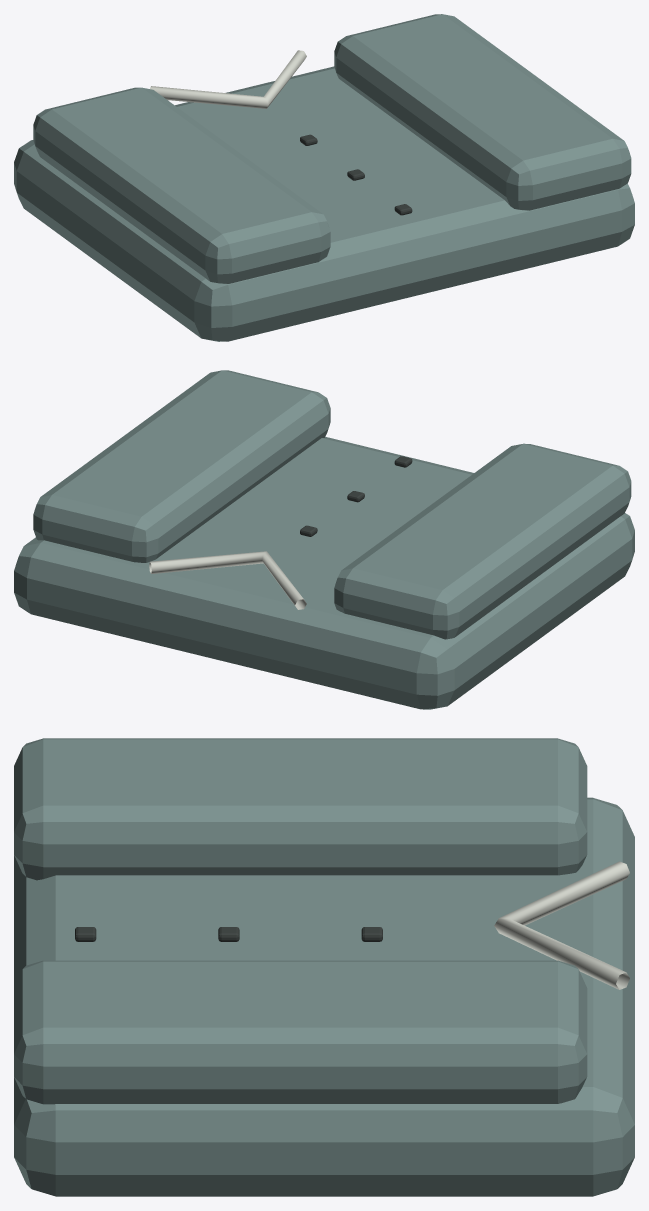
Rendered from folded_cardigan.glb.
The picture shows the model from 3 angles, top to bottom: view 1: azimuth 30°, elevation 25°; view 2: azimuth 150°, elevation 25°; view 3: azimuth 270°, elevation 25°; orthographic projection. The views are drawn at different scales.
Parts seen in each view (by area): view 1: KitFabric, KitIvory, KitDark; view 2: KitFabric, KitIvory, KitDark; view 3: KitFabric, KitIvory, KitDark.
Boxes of the visible parts, box(x1,y1,x2,y2) form: KitFabric: box(14, 14, 634, 341); KitIvory: box(150, 50, 306, 108); KitDark: box(300, 134, 412, 215); KitFabric: box(14, 370, 634, 709); KitIvory: box(149, 551, 306, 609); KitDark: box(300, 456, 412, 536); KitFabric: box(14, 738, 634, 1196); KitIvory: box(494, 861, 629, 989); KitDark: box(75, 927, 382, 941).
Bounding box in the file's own units: 0.32 × 0.0775 × 0.26.
